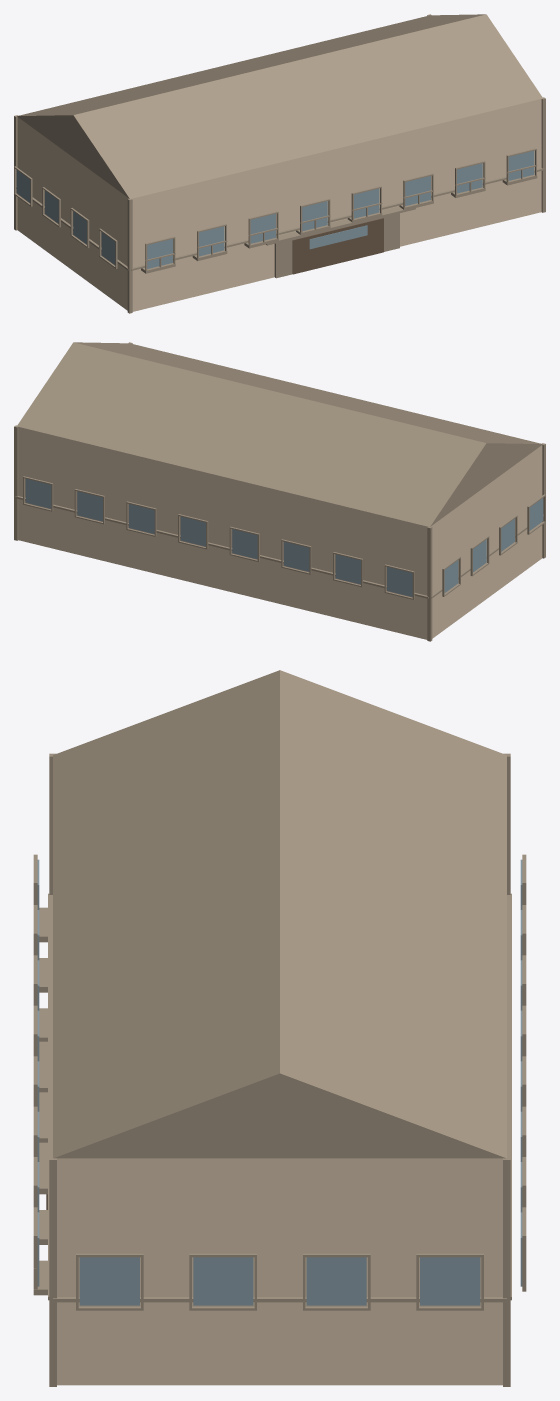
Rendered from lot_4x2_gable.glb.
3 views of the same model, one above another, from view 1: azimuth 30°, elevation 25°; view 2: azimuth 150°, elevation 25°; view 3: azimuth 270°, elevation 25° (orthographic). The views are drawn at different scales.
Visible parts, largest first — view 1: lot_4x2_gable; view 2: lot_4x2_gable; view 3: lot_4x2_gable.
Part boxes in pixels (x1,y1,x2,y2): lot_4x2_gable: [14, 14, 545, 313]; lot_4x2_gable: [14, 342, 545, 641]; lot_4x2_gable: [33, 670, 526, 1386].
Bounding box in the file's own units: 31.74 × 11 × 15.74.
